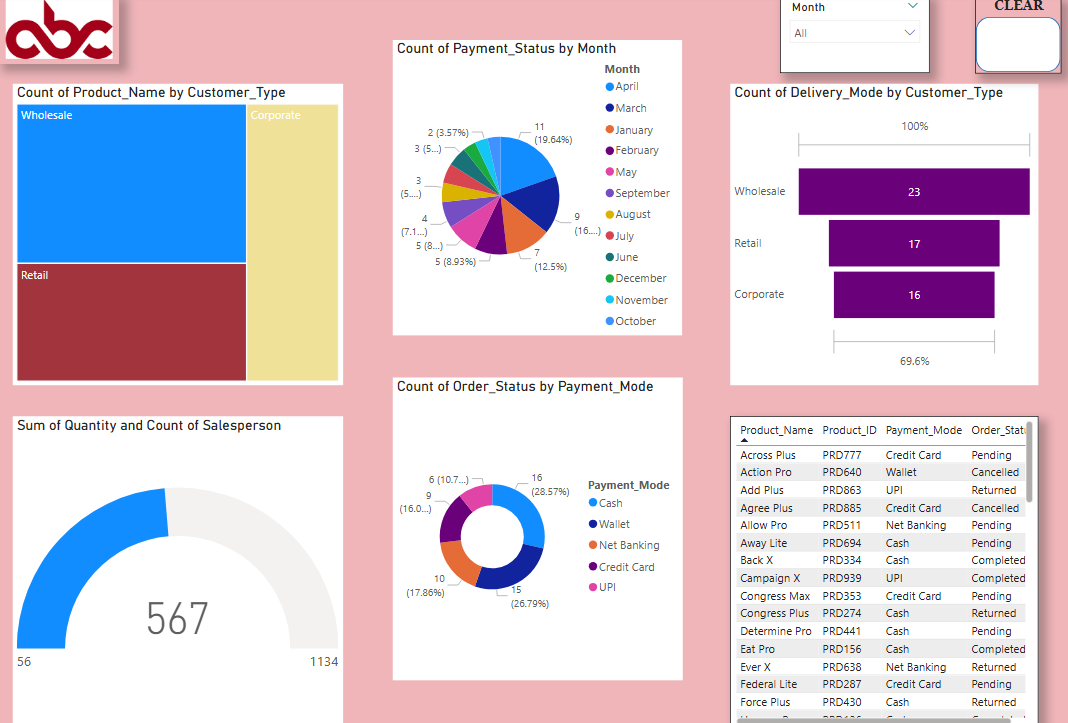

Layout of this report page (visuals, bound fields, positions):
{"tool":"powerbi","page":{"name":"Analysis 3","canvas":[1280,875],"ordinal":2},"visuals":[{"type":"slicer","fields":{"Values":["project sale.Date.Variation.Date Hierarchy.Month"]},"box":[928.8,0,177.5,92.5],"z":0},{"type":"image","box":[0,0,142.9,81.2],"z":1000},{"type":"pieChart","fields":{"Y":["CountNonNull(project sale123.Payment_Status)"],"Category":["project sale.Month"]},"box":[468.8,53.8,343.8,351.2],"z":2000},{"type":"donutChart","fields":{"Category":["project sale.Payment_Mode"],"Y":["CountNonNull(project sale123.Order_Status)"]},"box":[467.5,455,345,360],"z":3000},{"type":"treemap","fields":{"Group":["project sale.Customer_Type"],"Values":["CountNonNull(project sale.Product_Name)"]},"box":[16.2,106.2,392.5,358.8],"z":4000},{"type":"funnel","fields":{"Category":["project sale123.Customer_Type"],"Y":["CountNonNull(project sale123.Delivery_Mode)"]},"box":[870,106.2,366.2,358.8],"z":5000},{"type":"gauge","fields":{"MinValue":["CountNonNull(project sale.Salesperson)"],"Y":["Sum(project sale.Quantity)"]},"box":[16.2,501.2,392.5,373.8],"z":6000},{"type":"tableEx","fields":{"Values":["project sale.Product_Name","project sale.Product_ID","project sale.Payment_Mode","project sale123.Order_Status"]},"box":[870,501.2,366.2,373.8],"z":7000},{"type":"shape","title":"CLEAR","box":[1161.2,2.5,102.5,90],"z":8000}]}

Visuals, with their boxes in screenshot pixels (x1, y1, x2, y2), scaled from the page's 1280x875 canvas onto the 1068x723 screenshot:
slicer - project sale.Date.Variation.Date Hierarchy.Month: <region>775, 0, 923, 76</region>
image: <region>0, 0, 119, 67</region>
pieChart - CountNonNull(project sale123.Payment_Status) x project sale.Month: <region>391, 44, 678, 335</region>
donutChart - project sale.Payment_Mode x CountNonNull(project sale123.Order_Status): <region>390, 376, 678, 673</region>
treemap - project sale.Customer_Type x CountNonNull(project sale.Product_Name): <region>14, 88, 341, 384</region>
funnel - project sale123.Customer_Type x CountNonNull(project sale123.Delivery_Mode): <region>726, 88, 1031, 384</region>
gauge - CountNonNull(project sale.Salesperson) x Sum(project sale.Quantity): <region>14, 414, 341, 722</region>
tableEx - project sale.Product_Name x project sale.Product_ID: <region>726, 414, 1031, 722</region>
"CLEAR" shape: <region>969, 2, 1054, 76</region>
